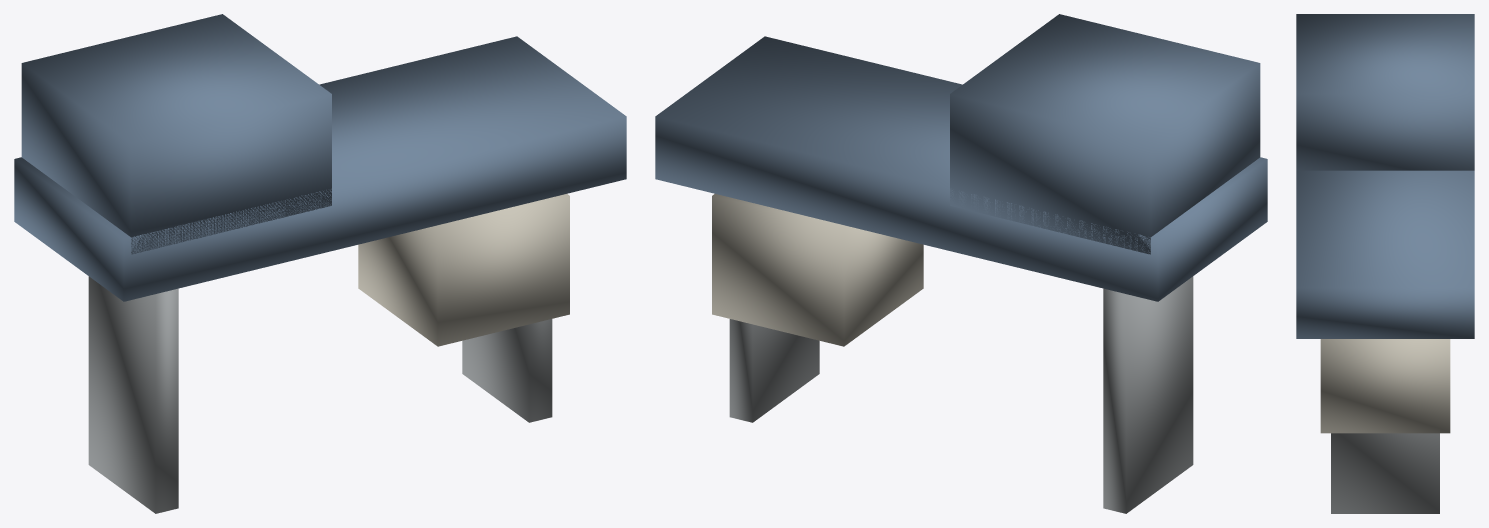
The model's file is exam_table__tall.glb.
The picture shows the model from 3 angles, left to right: view 1: azimuth 30°, elevation 25°; view 2: azimuth 150°, elevation 25°; view 3: azimuth 270°, elevation 25°; orthographic projection. The views are drawn at different scales.
Parts seen in each view (by area): view 1: world; view 2: world; view 3: world.
Boxes of the visible parts, x1=… form: world: x1=14, y1=14, x2=626, y2=513; world: x1=655, y1=14, x2=1267, y2=513; world: x1=1296, y1=14, x2=1474, y2=513.
Bounding box in the file's own units: 1.75 × 1.32 × 0.66.
